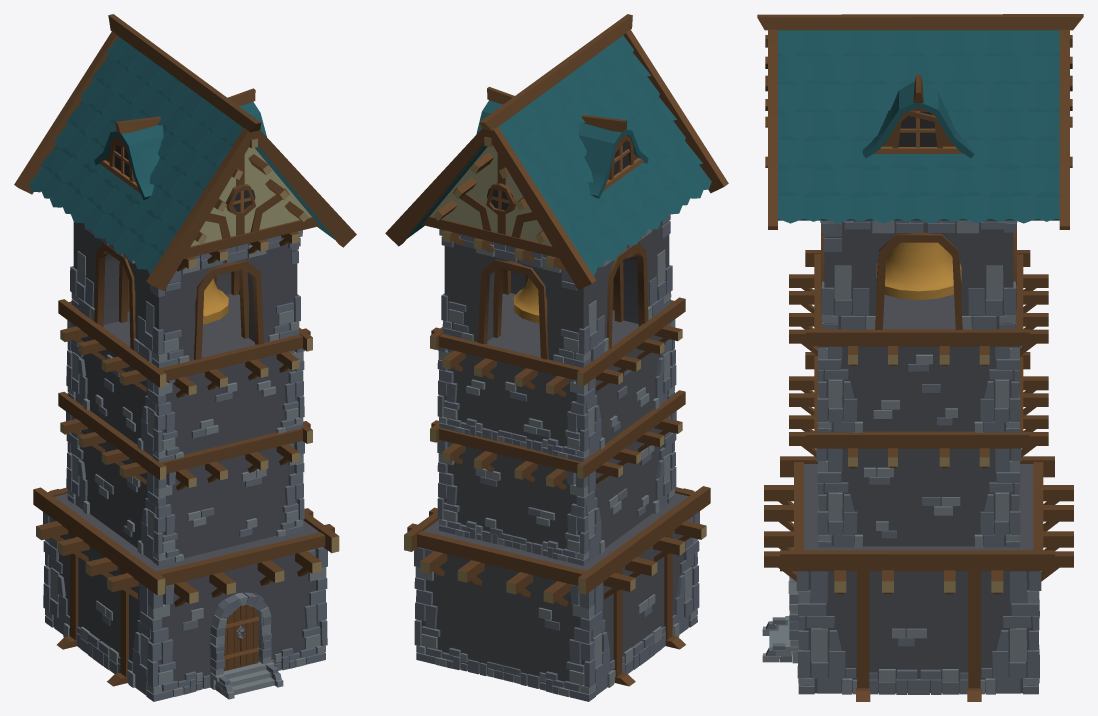
Rendered from v_bell_tower.glb.
3 renders of one model, left to right at view 1: azimuth 30°, elevation 25°; view 2: azimuth 150°, elevation 25°; view 3: azimuth 270°, elevation 25°, orthographic. The views are drawn at different scales.
Parts seen in each view (by area): view 1: Bell_Tower; view 2: Bell_Tower; view 3: Bell_Tower.
Part boxes in pixels (x1,y1,x2,y2): Bell_Tower: (14,14,356,701); Bell_Tower: (385,14,728,701); Bell_Tower: (757,14,1083,701).
Size of the model in its own units: 1.94 by 4.76 by 2.23.
